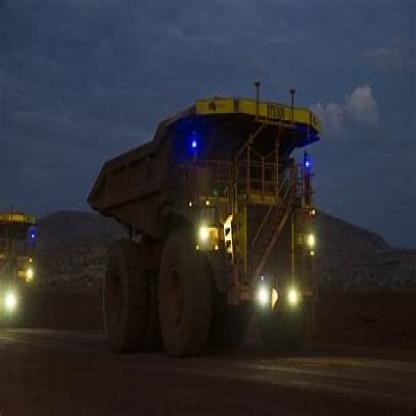dump_truck: (79, 82, 320, 354)
